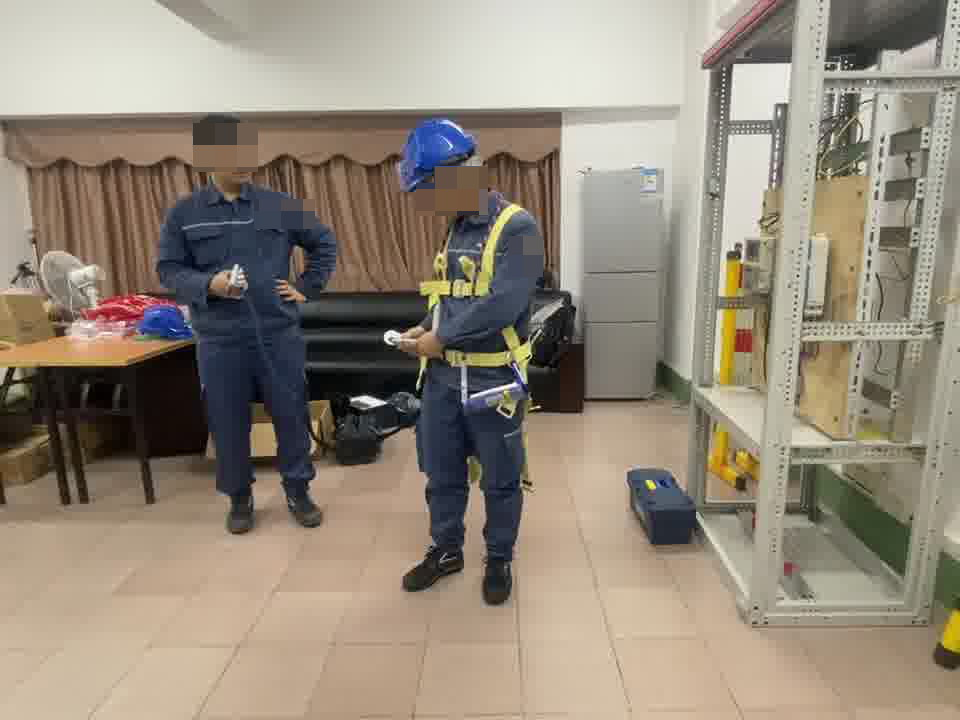downsuit: (418, 384, 528, 564), (201, 353, 318, 495)
halt: (397, 118, 481, 203)
hand: (203, 266, 247, 306), (401, 325, 445, 360), (270, 274, 307, 310)
inear: (430, 160, 474, 221)
noear: (191, 144, 228, 183)
person: (393, 115, 549, 600), (155, 116, 339, 527)
safebelt: (390, 198, 542, 497)
sleeve: (511, 238, 539, 273)
unhalt: (193, 115, 257, 183)
upsuit: (163, 182, 347, 331), (429, 189, 543, 364)
